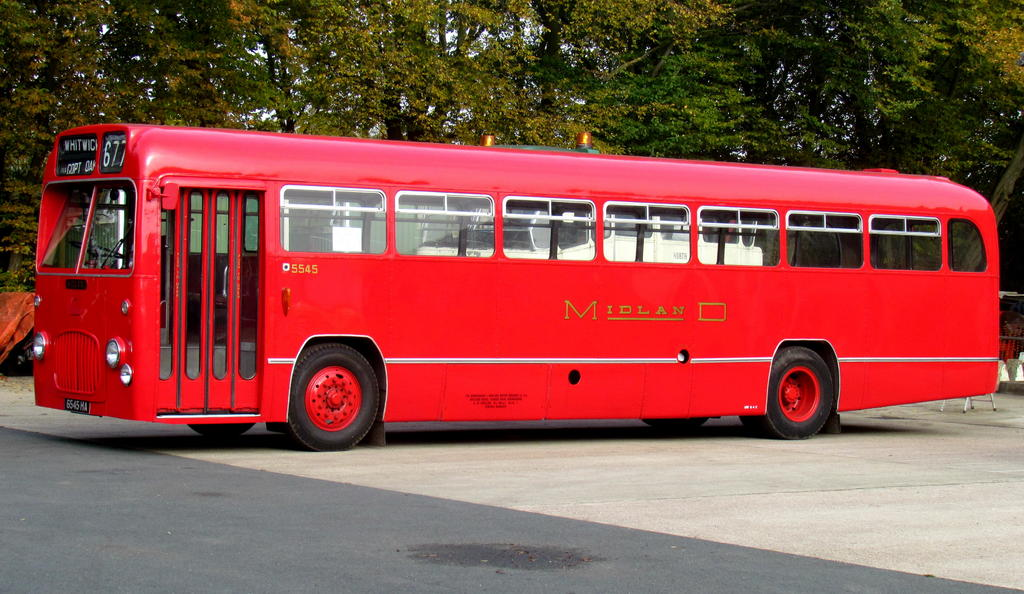Bus: (33, 123, 999, 453)
